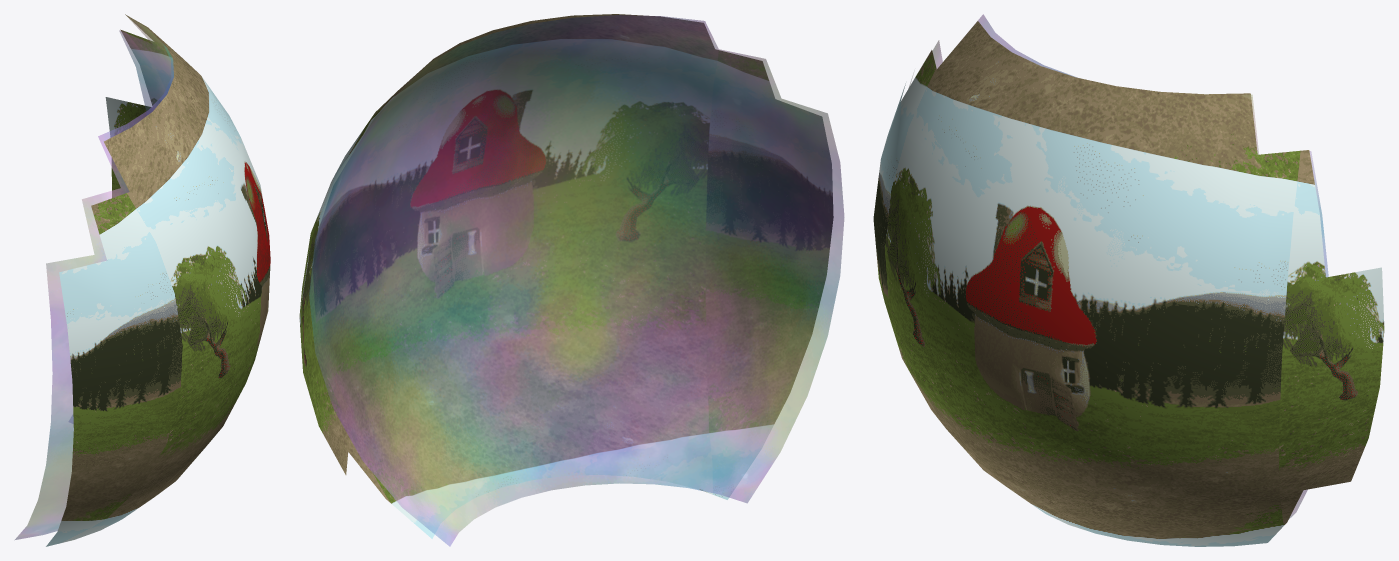
File: bubble_village2.glb
3 views of the same model, side by side, from view 1: azimuth 30°, elevation 25°; view 2: azimuth 150°, elevation 25°; view 3: azimuth 270°, elevation 25° (orthographic). The views are drawn at different scales.
Visible parts, largest first — view 1: envmap.png__, bubble.png__; view 2: bubble.png__, envmap.png__; view 3: envmap.png__, bubble.png__.
Part boxes in pixels (bbox=[...]): envmap.png__: bbox=[46, 14, 270, 546]; bubble.png__: bbox=[15, 17, 173, 539]; bubble.png__: bbox=[309, 15, 844, 546]; envmap.png__: bbox=[299, 14, 833, 538]; envmap.png__: bbox=[873, 21, 1384, 546]; bubble.png__: bbox=[909, 14, 1328, 518].
Bounding box in the file's own units: 4.3 × 5.37 × 5.28.
2 materials, 2 textured.
